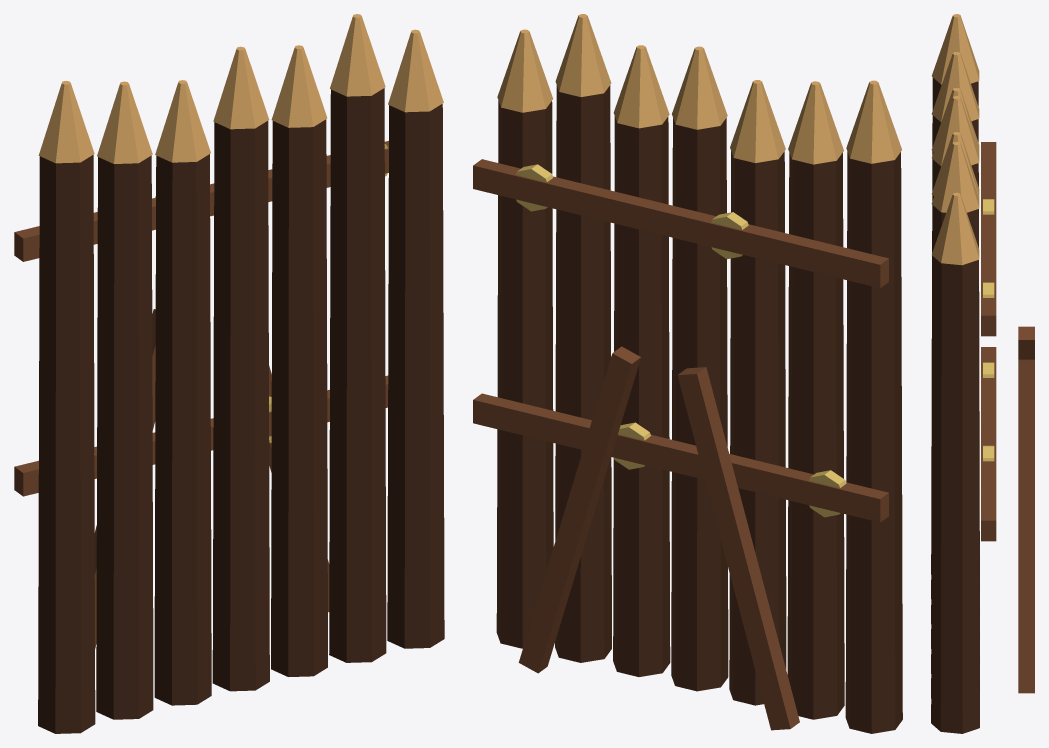
The model's file is palisade_straight.glb.
The picture shows the model from 3 angles, left to right: view 1: azimuth 30°, elevation 25°; view 2: azimuth 150°, elevation 25°; view 3: azimuth 270°, elevation 25°; orthographic projection. The views are drawn at different scales.
Visible parts, largest first — view 1: Log_0_Shaft, Log_5_Shaft, Log_3_Shaft, Log_1_Shaft, Log_4_Shaft, Log_2_Shaft, Log_6_Shaft, Log_4_Point, Log_2_Point, Log_5_Point, Log_0_Point, Log_1_Point (+5 smaller); view 2: Log_0_Shaft, Log_1_Shaft, Log_4_Shaft, Log_6_Shaft, Log_3_Shaft, Log_5_Shaft, Log_2_Shaft, Rail_1.002, Prop_0, Rail_0.002, Prop_1, Log_3_Point (+6 smaller); view 3: Log_6_Shaft, Prop_1, Rail_0.002, Rail_1.002, Log_6_Point, Log_5_Point, Log_0_Point, Log_1_Point, Log_3_Point, Log_5_Shaft, Prop_0, Log_0_Shaft (+5 smaller).
Part boxes in pixels (x1,y1,x2,y2): Log_0_Shaft: [38, 154, 95, 733]; Log_5_Shaft: [329, 88, 386, 662]; Log_3_Shaft: [212, 120, 269, 691]; Log_1_Shaft: [96, 155, 153, 719]; Log_4_Shaft: [271, 119, 327, 676]; Log_2_Shaft: [154, 154, 211, 705]; Log_6_Shaft: [387, 104, 444, 648]; Log_4_Point: [271, 45, 327, 127]; Log_2_Point: [155, 80, 210, 162]; Log_5_Point: [330, 14, 385, 96]; Log_0_Point: [38, 81, 94, 163]; Log_1_Point: [97, 81, 152, 163]; Log_0_Shaft: [845, 152, 902, 733]; Log_1_Shaft: [787, 152, 844, 719]; Log_4_Shaft: [613, 116, 670, 676]; Log_6_Shaft: [496, 100, 553, 648]; Log_3_Shaft: [671, 118, 728, 691]; Log_5_Shaft: [555, 85, 611, 662]; Log_2_Shaft: [729, 151, 786, 705]; Rail_1.002: [473, 159, 888, 287]; Prop_0: [677, 367, 799, 730]; Rail_0.002: [473, 393, 888, 522]; Prop_1: [518, 346, 641, 673]; Log_3_Point: [672, 46, 727, 129]; Log_6_Shaft: [931, 256, 979, 733]; Prop_1: [1018, 359, 1034, 693]; Rail_0.002: [981, 347, 996, 541]; Rail_1.002: [981, 142, 996, 336]; Log_6_Point: [931, 192, 979, 265]; Log_5_Point: [931, 142, 979, 212]; Log_0_Point: [932, 14, 979, 84]; Log_1_Point: [931, 52, 979, 121]; Log_3_Point: [932, 96, 979, 165]; Log_5_Shaft: [931, 205, 979, 698]; Prop_0: [1018, 326, 1034, 359]; Log_0_Shaft: [931, 77, 979, 574].
Size of the model in its own units: 2 by 3 by 0.505.
